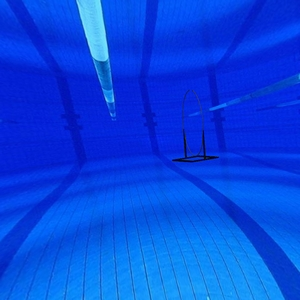circle: (170, 88, 222, 167)
